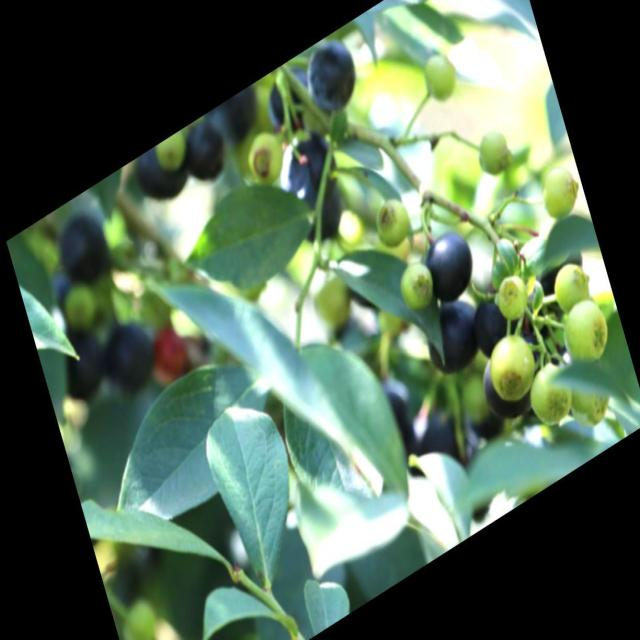blueberry: (272, 113, 343, 216), (44, 307, 112, 414), (94, 301, 165, 403), (52, 197, 120, 298), (296, 27, 366, 123), (418, 286, 487, 383), (125, 130, 196, 222), (474, 343, 537, 439), (416, 220, 480, 312), (178, 111, 235, 192), (464, 277, 522, 356)
blueberry-unripe: (482, 315, 544, 407), (555, 288, 614, 372), (522, 349, 579, 431), (544, 249, 596, 324), (240, 117, 289, 192), (534, 155, 582, 230), (309, 269, 356, 340), (368, 186, 416, 255), (392, 251, 439, 318), (566, 372, 613, 438), (416, 42, 461, 108), (490, 264, 533, 326), (470, 120, 512, 181)
